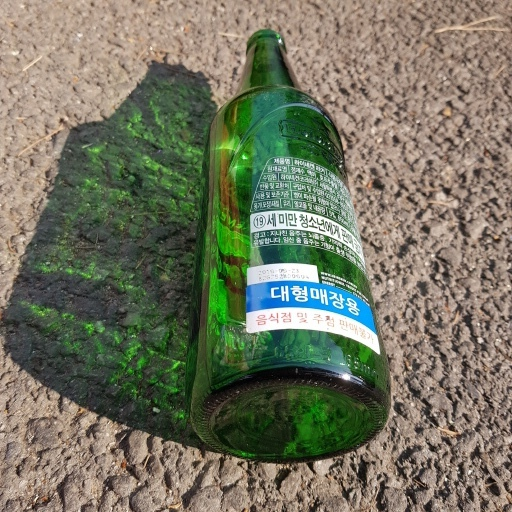Glass_1: (199, 33, 393, 463)
